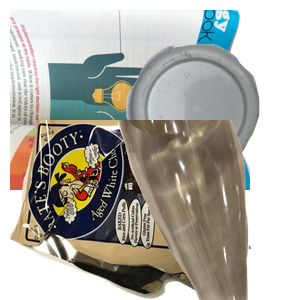glass: (115, 120, 300, 300)
paper: (10, 10, 250, 190)
plastic: (124, 42, 300, 210)
trash: (10, 120, 235, 300)
